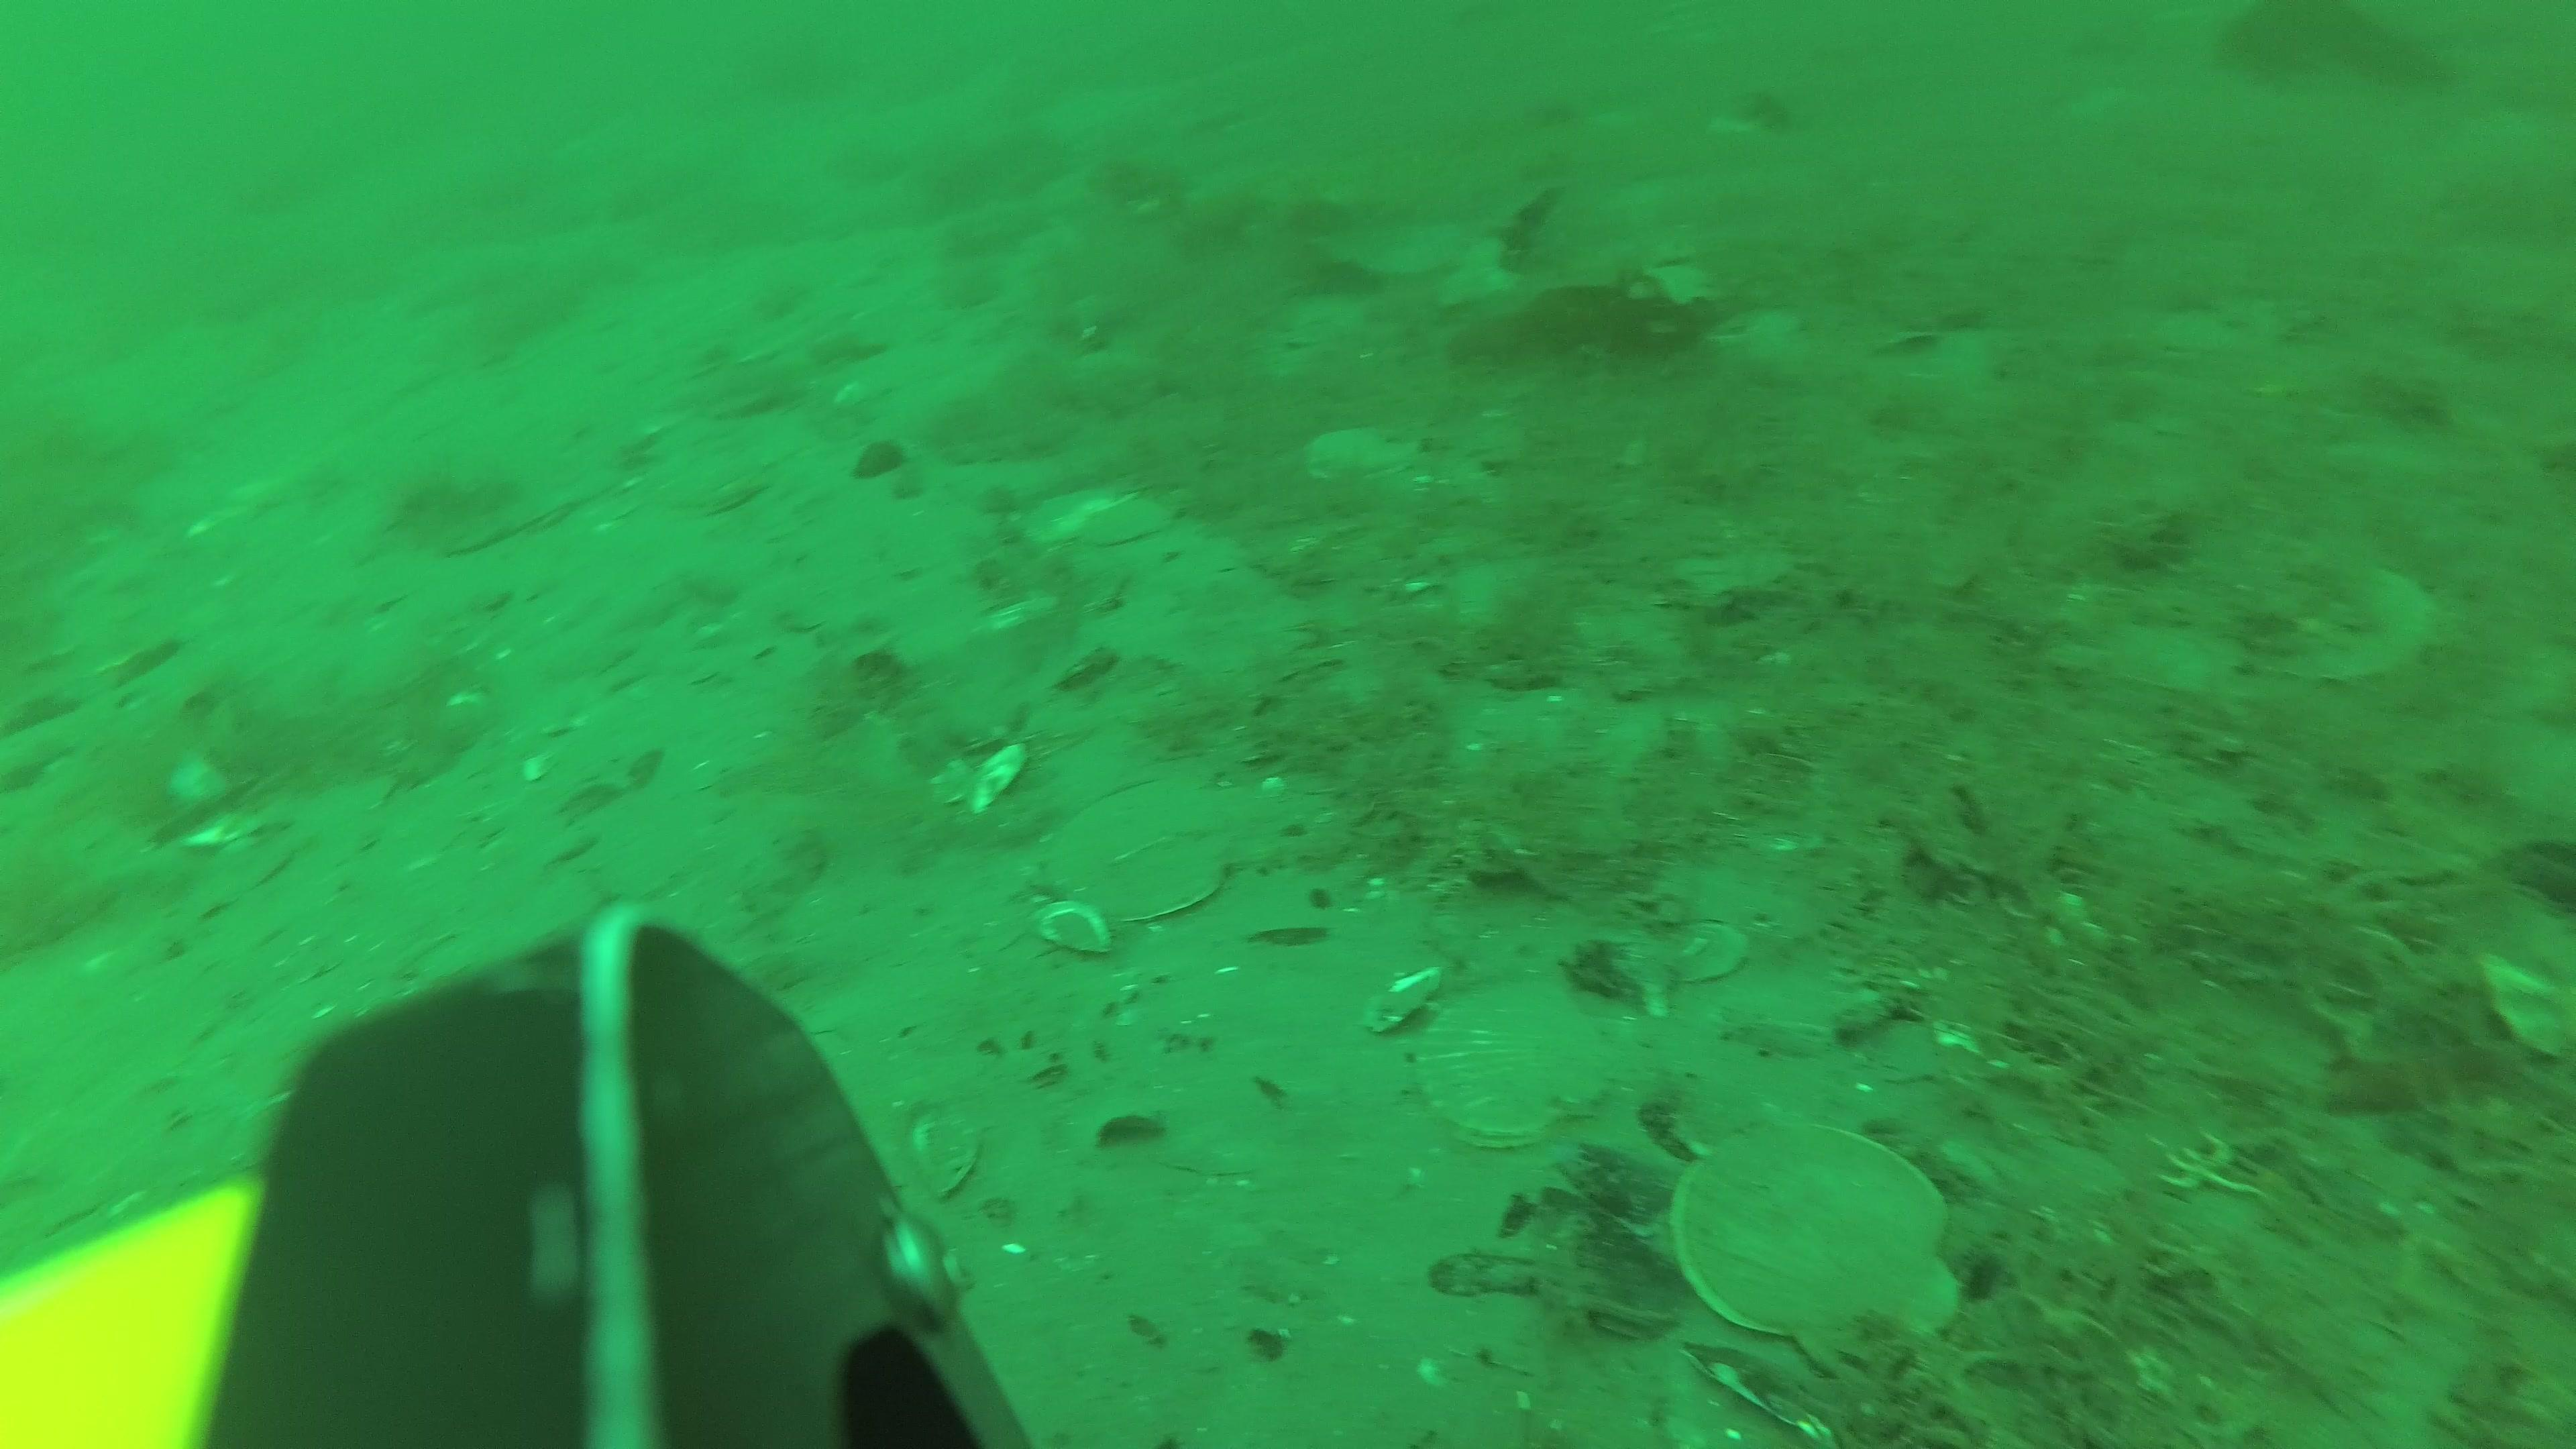scallop: (1674, 1132, 1964, 1371), (1049, 775, 1276, 924), (1419, 978, 1610, 1148), (2270, 570, 2436, 688), (653, 426, 782, 518), (1306, 423, 1419, 485), (1085, 497, 1180, 548), (1028, 481, 1106, 538)
